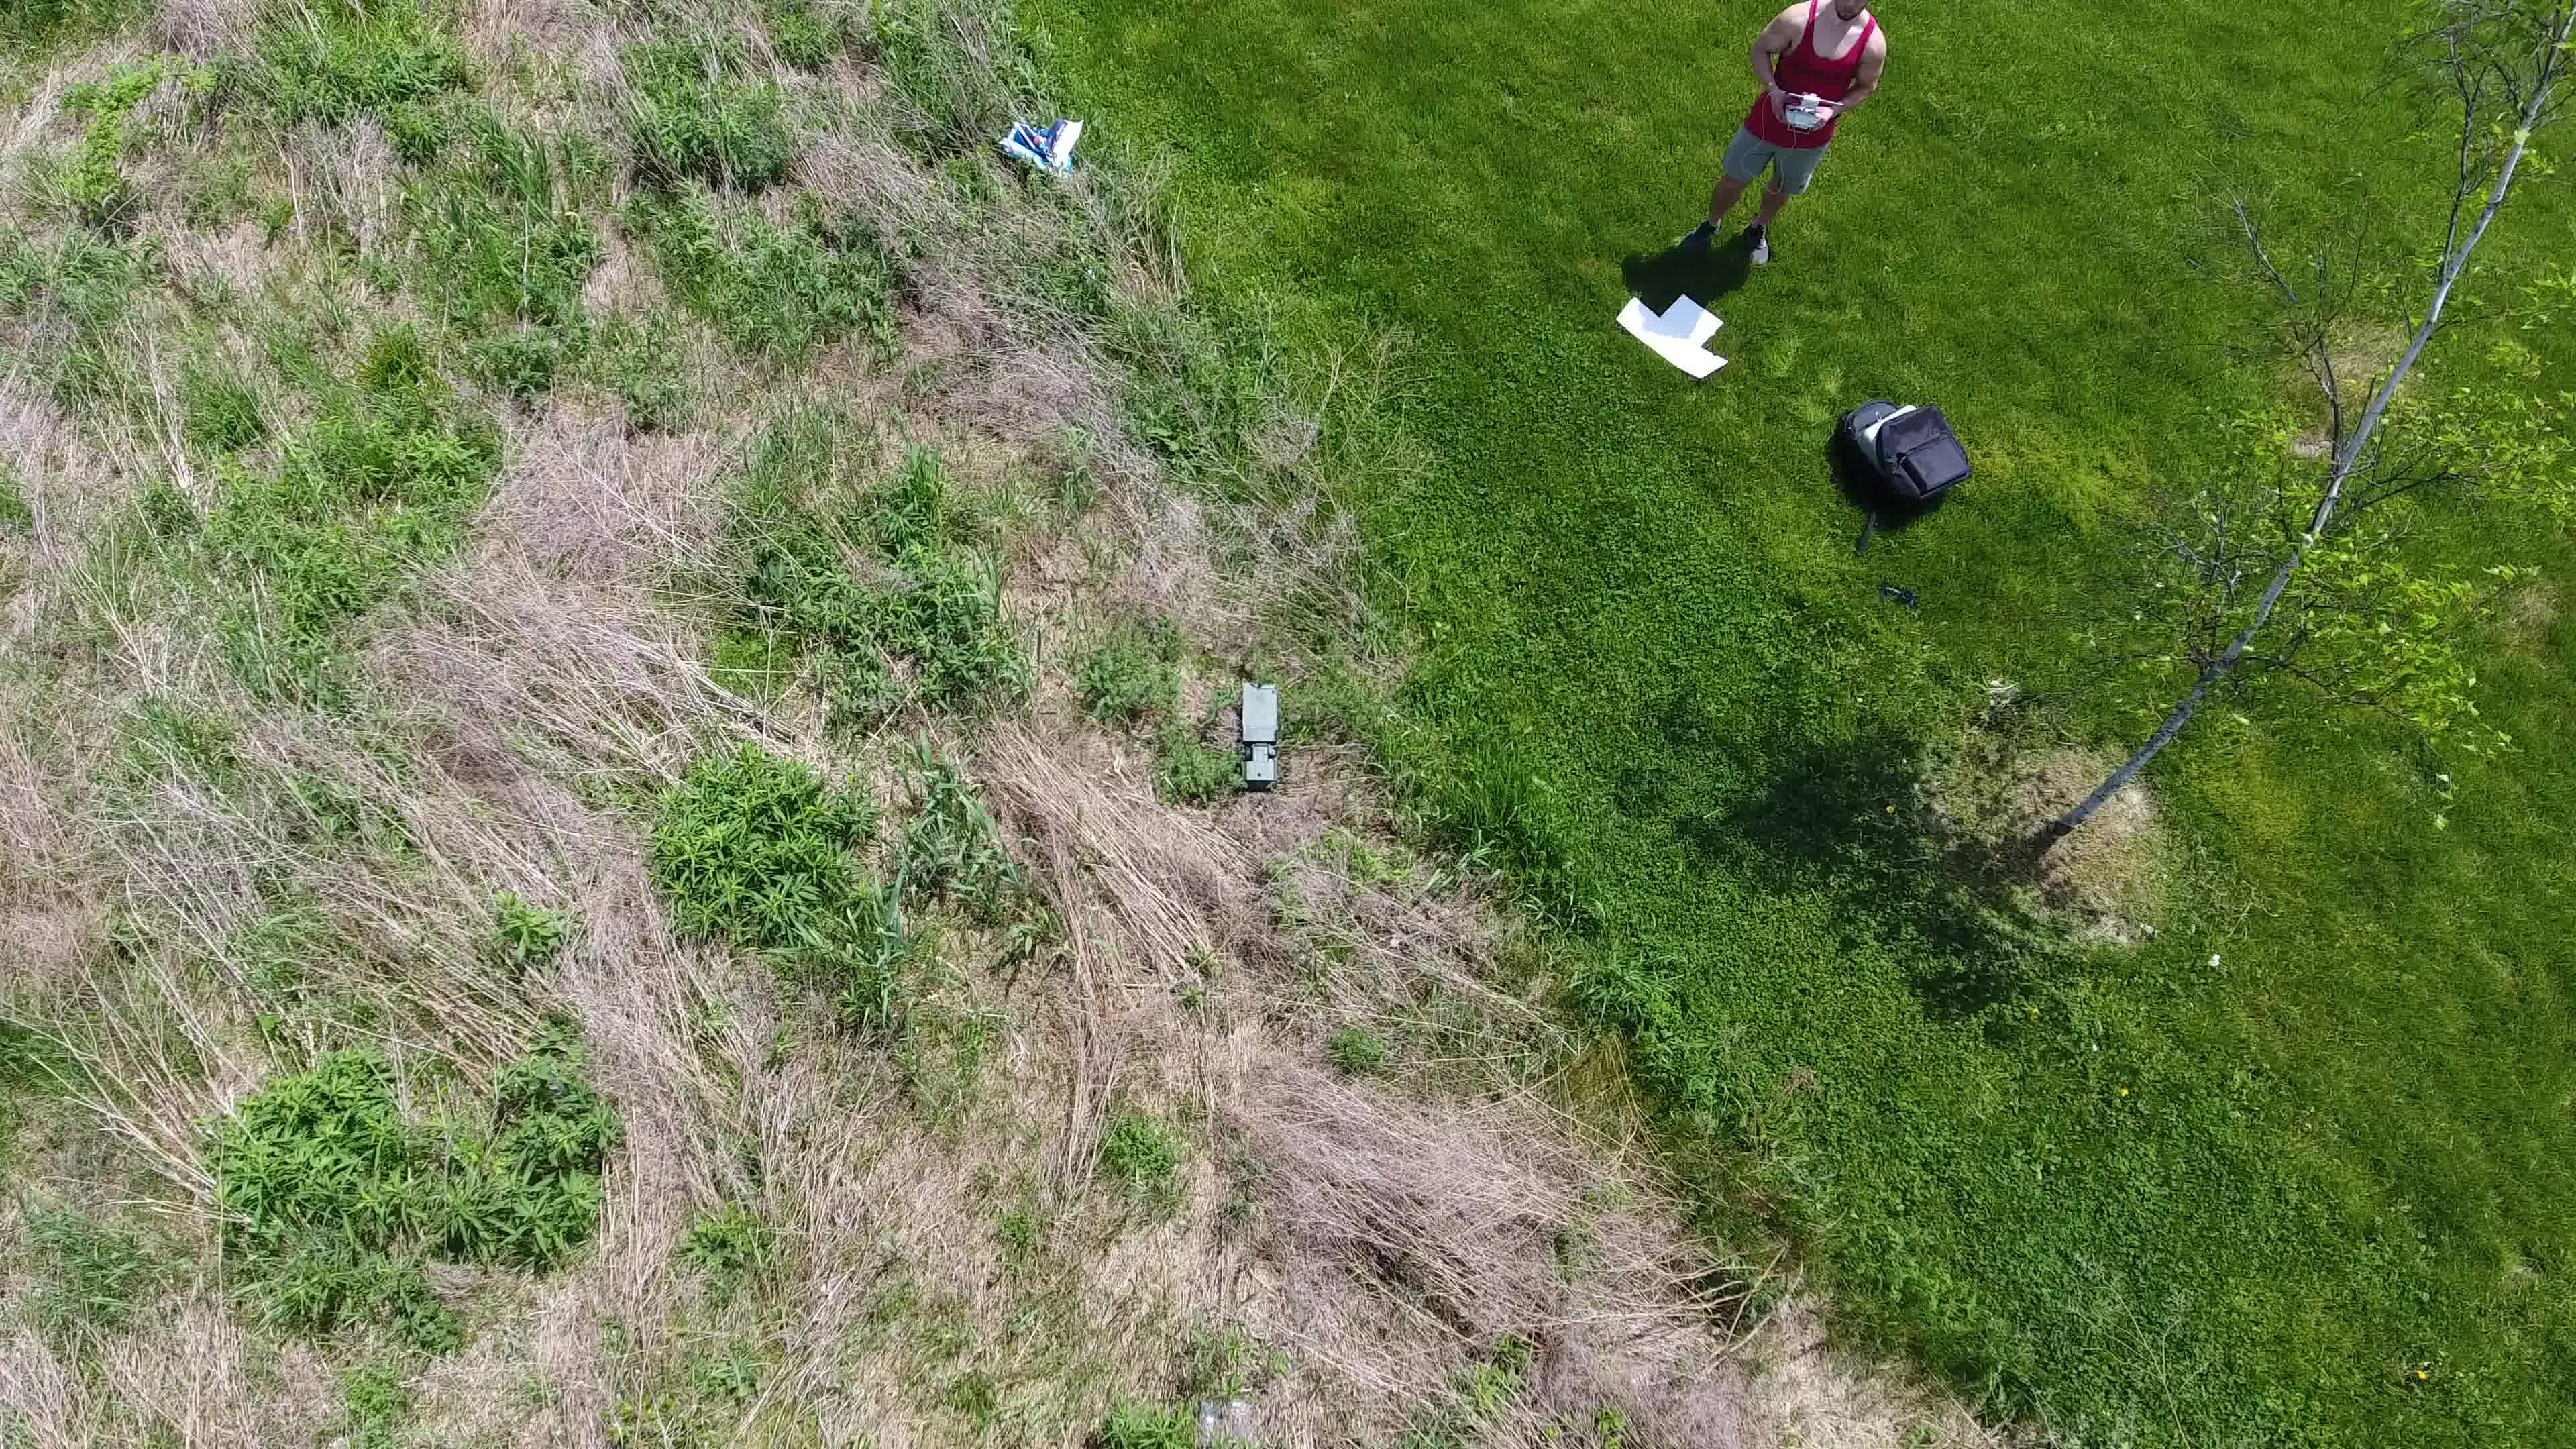transporter9: (1237, 674, 1279, 789)
